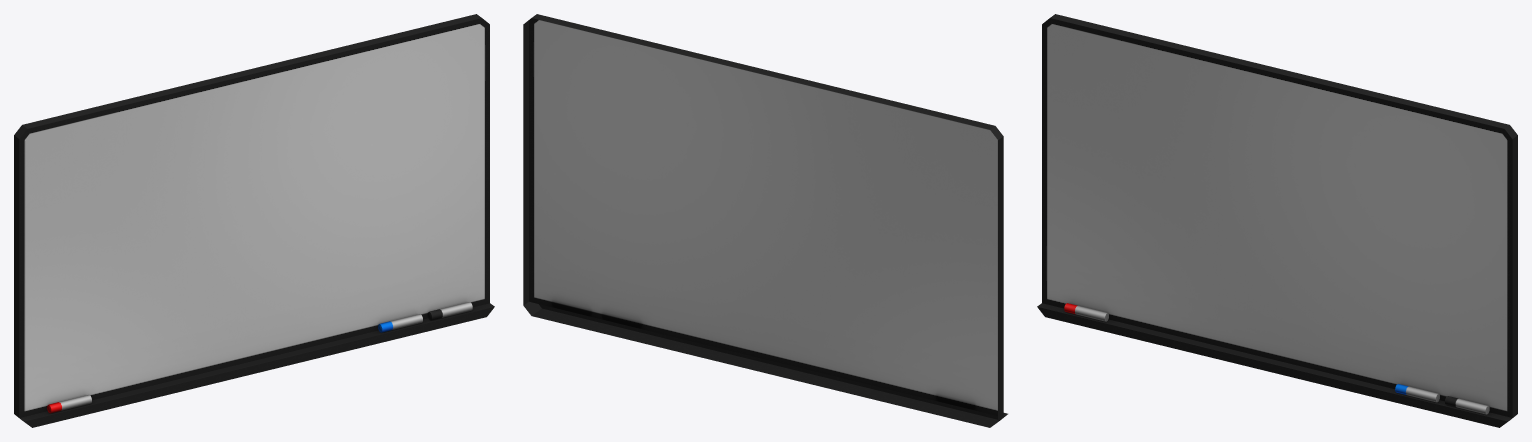
Rendered from WhiteBoard.fbx.
The picture shows the model from 3 angles, left to right: view 1: azimuth 30°, elevation 25°; view 2: azimuth 150°, elevation 25°; view 3: azimuth 330°, elevation 25°; orthographic projection.
Visible parts, largest first — view 1: WhiteBoard; view 2: WhiteBoard; view 3: WhiteBoard.
Boxes of the visible parts, box(x1,y1,x2,y2) form: WhiteBoard: box(14, 14, 494, 427); WhiteBoard: box(523, 14, 1007, 427); WhiteBoard: box(1037, 14, 1517, 427).
Size of the model in its own units: 100 by 3.81 by 60.
